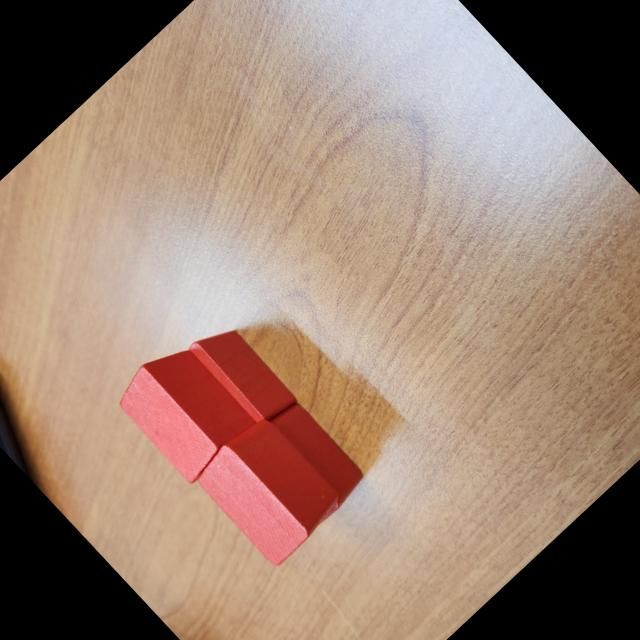red: (187, 409, 348, 571), (107, 334, 260, 488), (241, 396, 371, 528), (186, 313, 302, 432)
